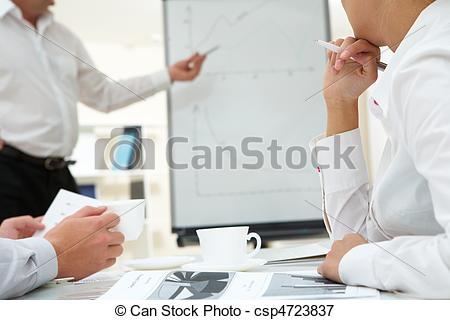finger: (340, 37, 377, 62), (334, 34, 354, 68), (102, 214, 120, 230), (106, 246, 129, 258), (101, 258, 120, 270), (109, 231, 126, 244)
